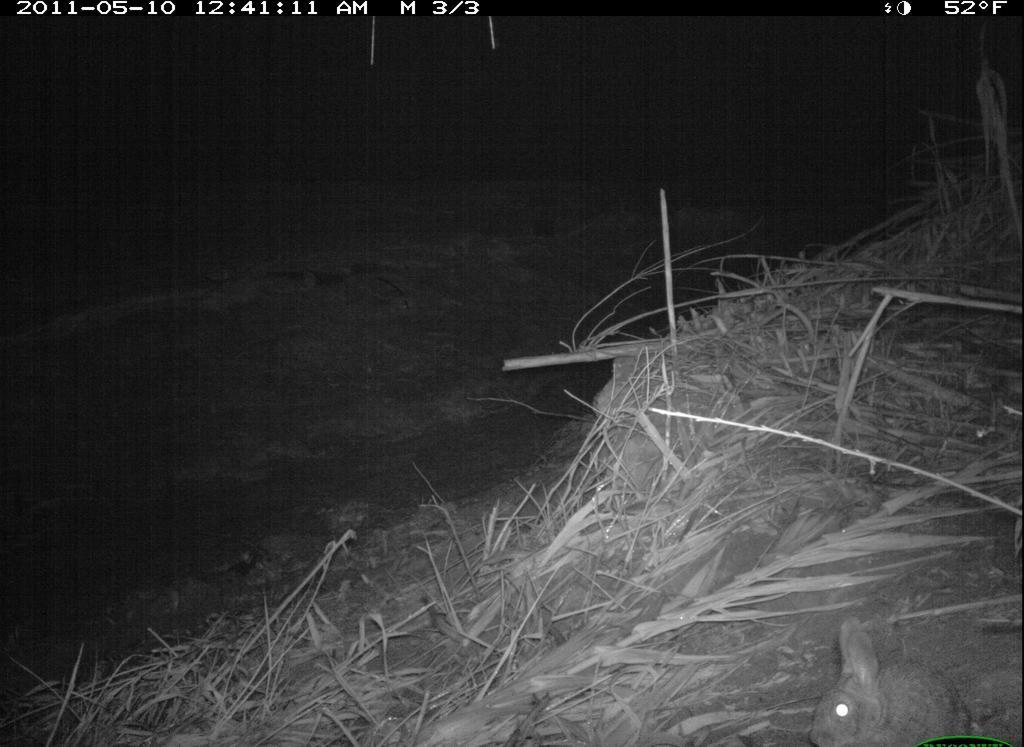rabbit: (797, 607, 996, 745)
